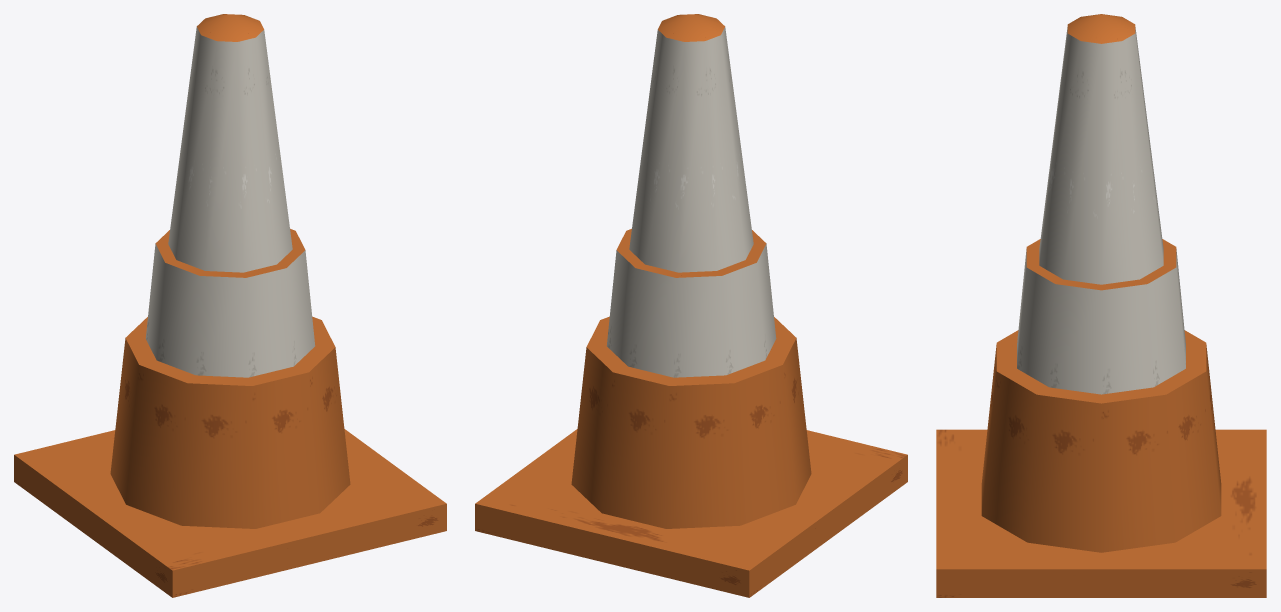
File: traffic_cone.glb
The picture shows the model from 3 angles, left to right: view 1: azimuth 30°, elevation 25°; view 2: azimuth 150°, elevation 25°; view 3: azimuth 270°, elevation 25°; orthographic projection. The views are drawn at different scales.
Visible parts, largest first — view 1: Prop; view 2: Prop; view 3: Prop.
Boxes of the visible parts, bbox=[...] form: Prop: bbox=[14, 14, 446, 597]; Prop: bbox=[475, 14, 907, 597]; Prop: bbox=[936, 14, 1266, 597].
Size of the model in its own units: 0.42 by 0.72 by 0.42.
Materials: 1 (1 with a texture image).
